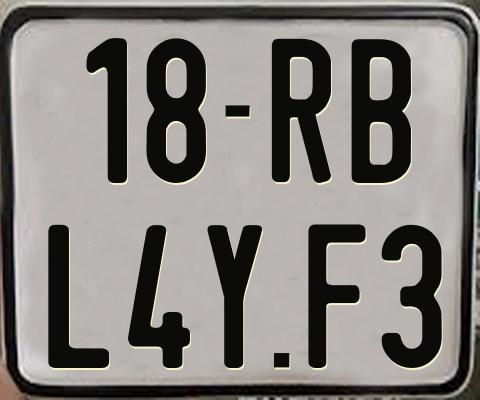1: (86, 36, 130, 185)
3: (381, 224, 447, 373)
4: (127, 222, 192, 368)
8: (146, 36, 211, 183)
B: (349, 39, 414, 188)
F: (307, 224, 369, 371)
L: (47, 222, 114, 371)
R: (271, 38, 330, 182)
Y: (204, 225, 265, 373)
